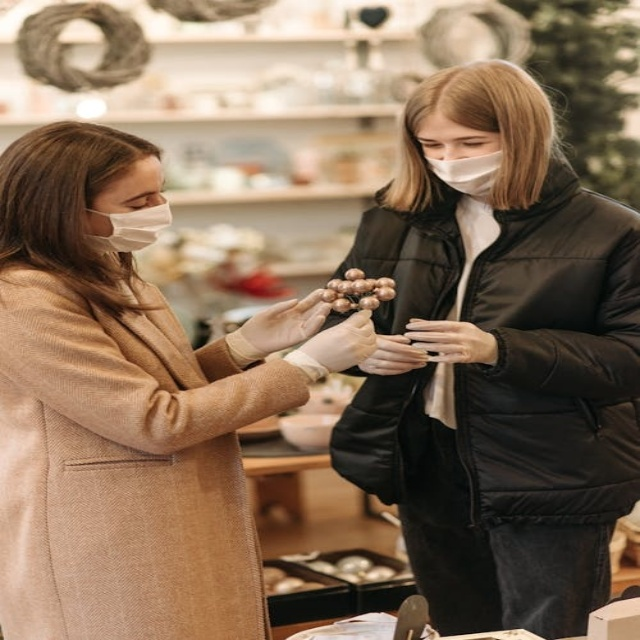Guantes: (232, 291, 337, 359), (292, 303, 387, 375), (402, 319, 499, 366), (356, 329, 431, 385)
Mascara: (81, 200, 173, 253), (423, 149, 504, 192)
Sin_gafas: (415, 132, 490, 152), (116, 188, 170, 210)
